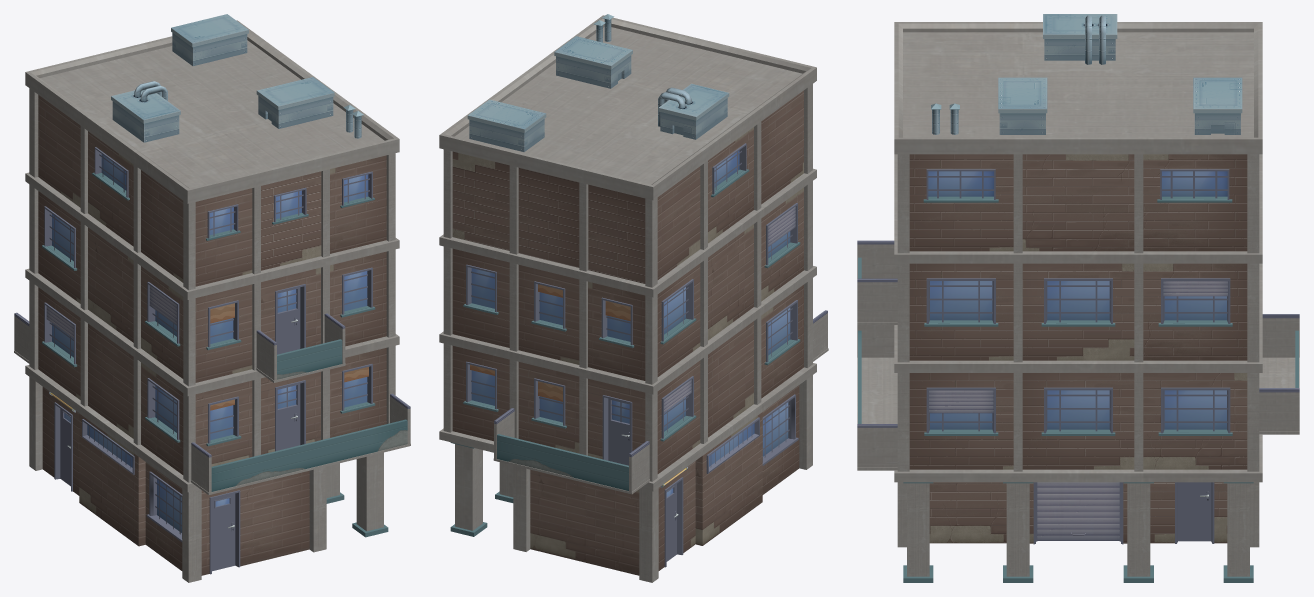
Rendered from Building_07_LOD1.fbx.
3 views of the same model, side by side, from view 1: azimuth 30°, elevation 25°; view 2: azimuth 150°, elevation 25°; view 3: azimuth 270°, elevation 25° (orthographic). The views are drawn at different scales.
Visible parts, largest first — view 1: polySurface282; view 2: polySurface282; view 3: polySurface282.
Part boxes in pixels (x1,y1,x2,y2): polySurface282: (14, 14, 410, 582); polySurface282: (439, 14, 828, 582); polySurface282: (857, 14, 1299, 582).
Bounding box in the file's own units: 692 × 1317 × 1100.
